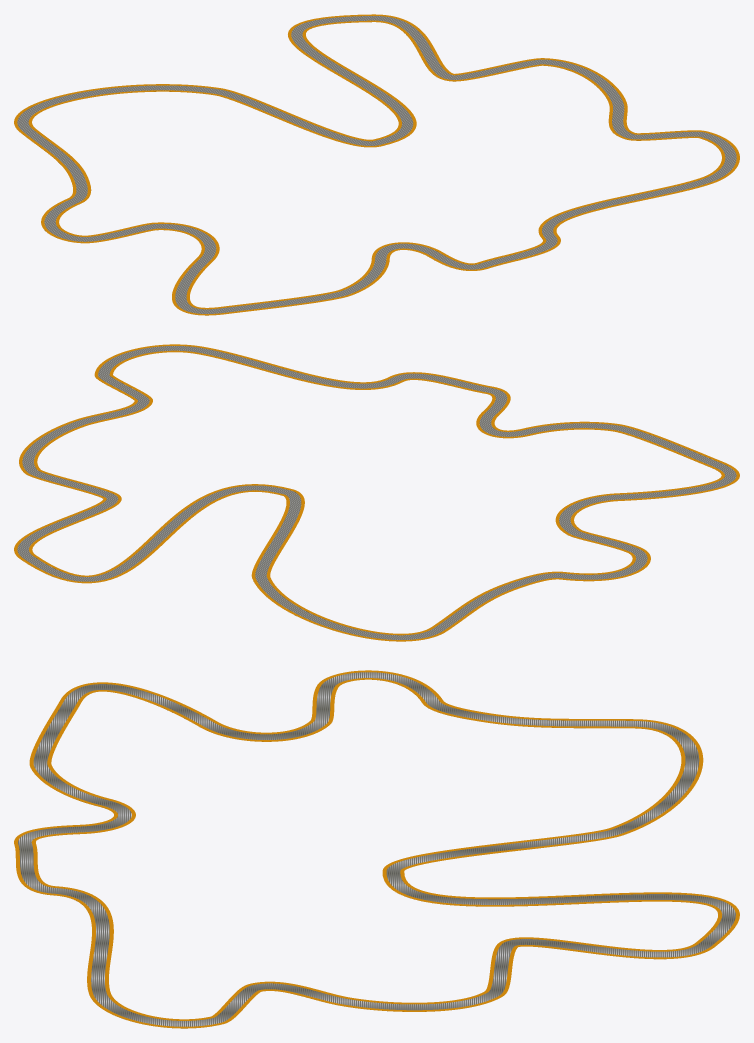
File: road.glb
3 renders of one model, top to bottom at view 1: azimuth 30°, elevation 25°; view 2: azimuth 150°, elevation 25°; view 3: azimuth 270°, elevation 25°, orthographic. The views are drawn at different scales.
Visible parts, largest first — view 1: RoadCurve.001; view 2: RoadCurve.001; view 3: RoadCurve.001.
Part boxes in pixels (<box>): RoadCurve.001: <box>14,14,739,315</box>; RoadCurve.001: <box>14,344,739,641</box>; RoadCurve.001: <box>14,670,739,1028</box>.
Bounding box in the file's own units: 800 × 0.1173 × 685.
2 materials, 1 textured.
